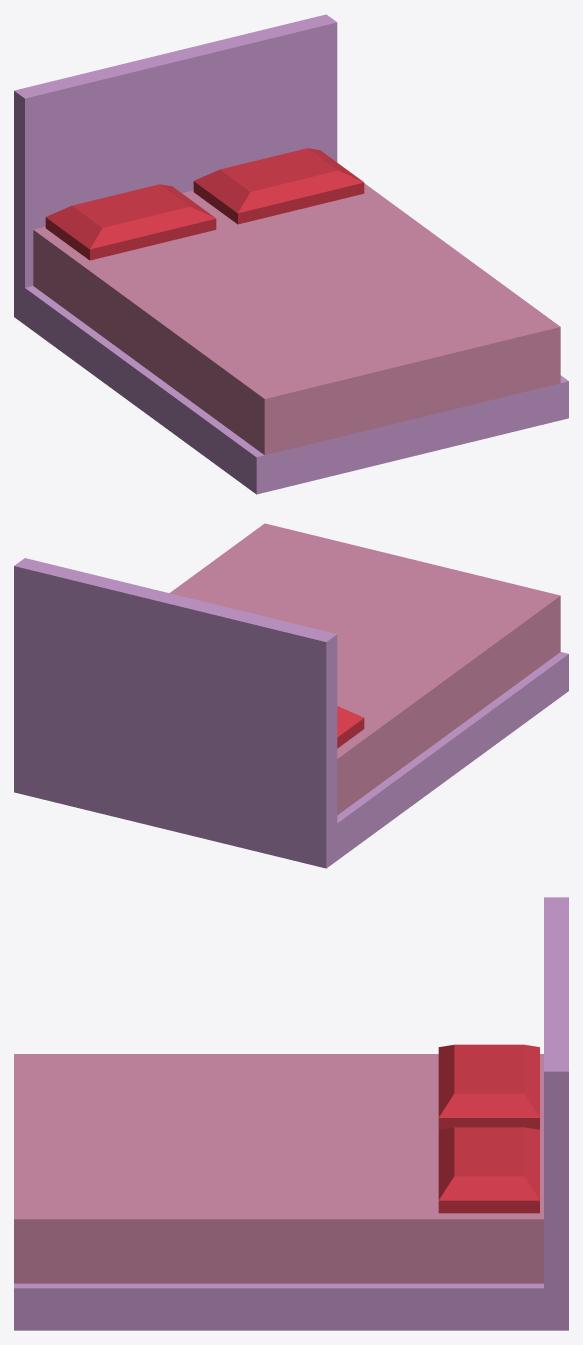
File: Bed3.fbx
3 views of the same model, one above another, from view 1: azimuth 30°, elevation 25°; view 2: azimuth 150°, elevation 25°; view 3: azimuth 270°, elevation 25° (orthographic). The views are drawn at different scales.
Visible parts, largest first — view 1: Cube; view 2: Cube; view 3: Cube.
Boxes of the visible parts, bbox=[...] form: Cube: bbox=[14, 14, 568, 494]; Cube: bbox=[14, 523, 568, 868]; Cube: bbox=[14, 897, 568, 1330].
Bounding box in the file's own units: 2.4 × 1.66 × 3.23.
